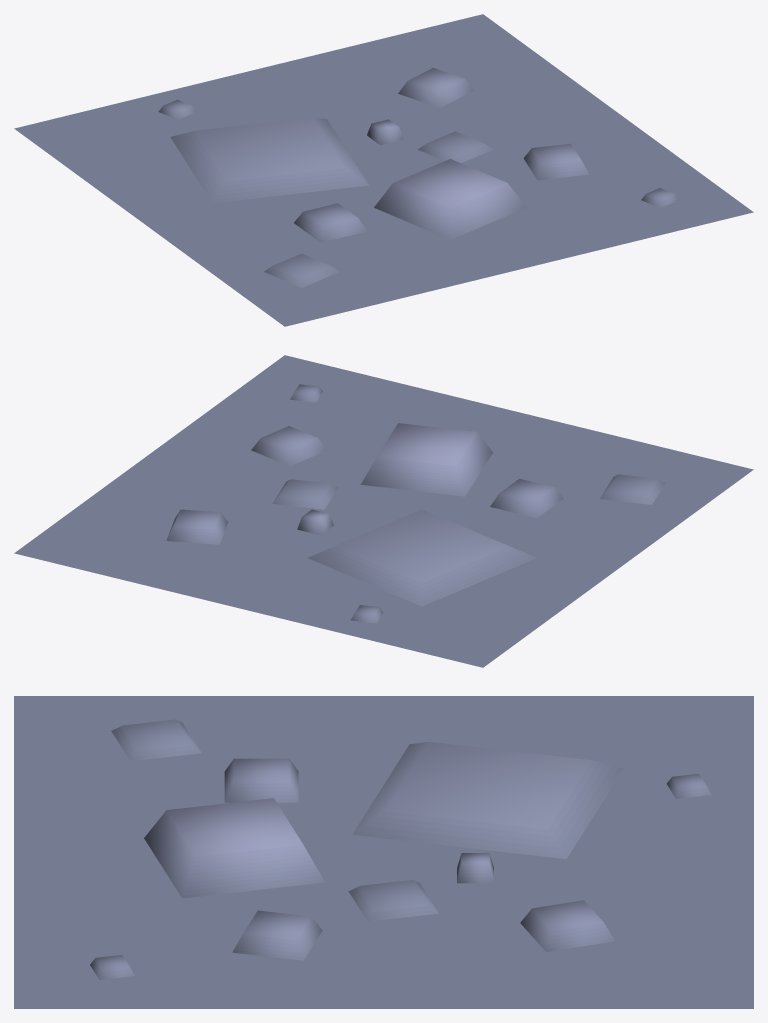
The model's file is floor-detail.glb.
3 views of the same model, one above another, from view 1: azimuth 30°, elevation 25°; view 2: azimuth 150°, elevation 25°; view 3: azimuth 270°, elevation 25° (orthographic). The views are drawn at different scales.
Parts seen in each view (by area): view 1: floor-detail; view 2: floor-detail; view 3: floor-detail.
Part boxes in pixels (left/top/right/bottom): floor-detail: left=14, top=14, right=753, bottom=326; floor-detail: left=14, top=355, right=753, bottom=667; floor-detail: left=14, top=696, right=753, bottom=1008.
Bounding box in the file's own units: 1 × 0.0501 × 1.
Materials: 1 (1 with a texture image).
